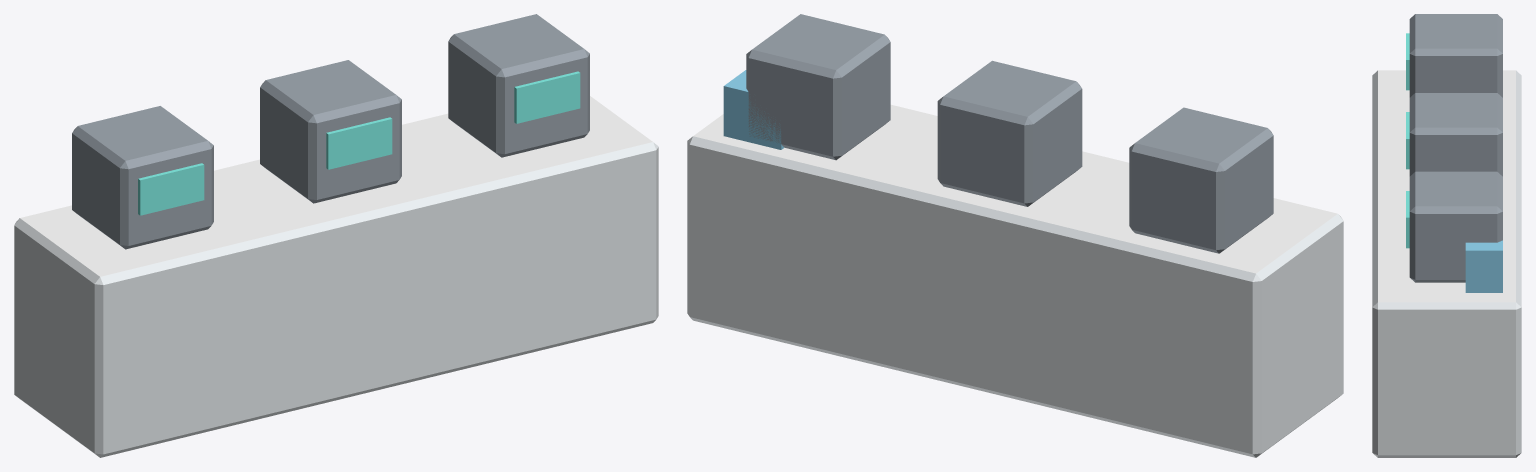
Rendered from lab.fbx.
3 views of the same model, side by side, from view 1: azimuth 30°, elevation 25°; view 2: azimuth 150°, elevation 25°; view 3: azimuth 270°, elevation 25° (orthographic). The views are drawn at different scales.
Parts seen in each view (by area): view 1: lab; view 2: lab; view 3: lab.
Boxes of the visible parts, bbox=[...] form: lab: bbox=[14, 14, 658, 457]; lab: bbox=[687, 14, 1343, 457]; lab: bbox=[1372, 14, 1521, 457].
Bounding box in the file's own units: 3 × 1.37 × 0.8.
